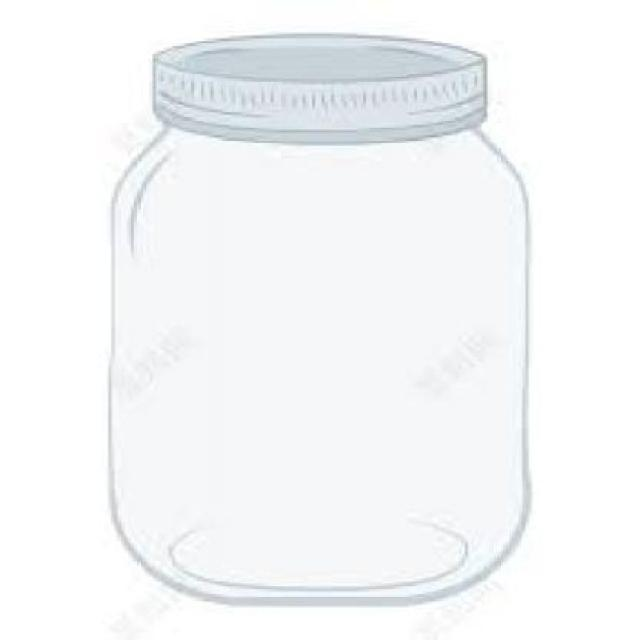kaca: (102, 120, 529, 605)
